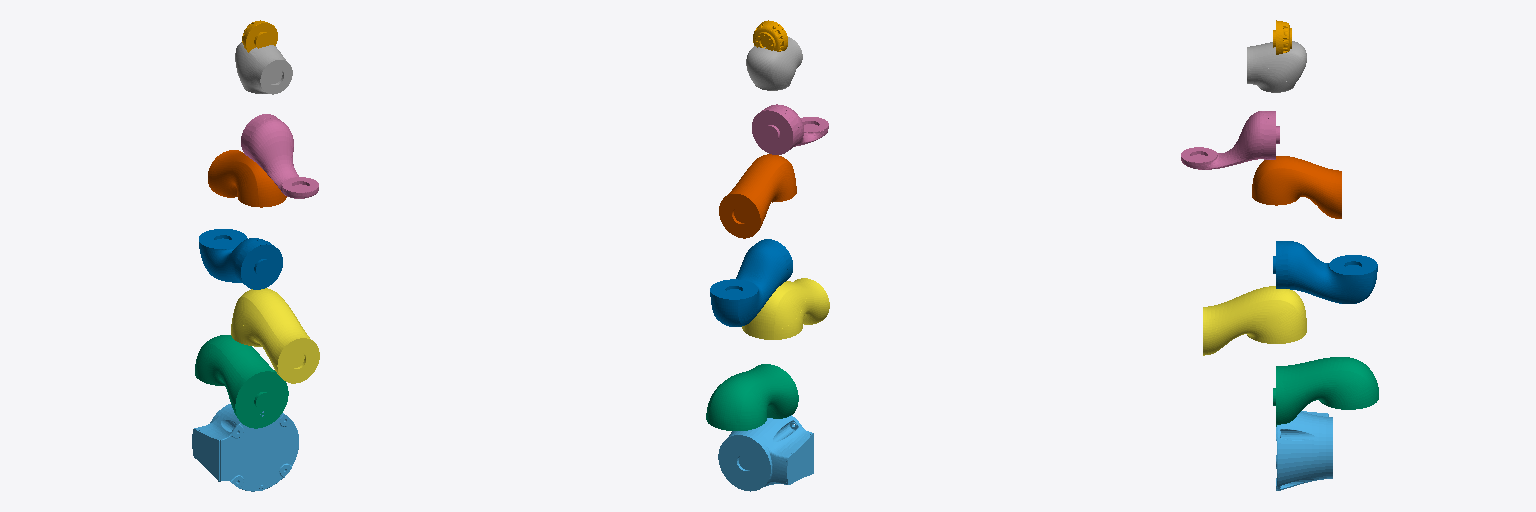
robot.urdf — iiwa14:
<?xml version='1.0' encoding='utf-8'?>
<robot name="iiwa14">
  <material name="Black">
    <color rgba="0.0 0.0 0.0 1.0" />
  </material>
  <material name="Blue">
    <color rgba="0.0 0.0 0.8 1.0" />
  </material>
  <material name="Green">
    <color rgba="0.0 0.8 0.0 1.0" />
  </material>
  <material name="Grey">
    <color rgba="0.4 0.4 0.4 1.0" />
  </material>
  <material name="Silver">
    <color rgba="0.6 0.6 0.6 1.0" />
  </material>
  <material name="Orange">
    <color rgba="1.0 0.423529411765 0.0392156862745 1.0" />
  </material>
  <material name="Brown">
    <color rgba="0.870588235294 0.811764705882 0.764705882353 1.0" />
  </material>
  <material name="Red">
    <color rgba="0.8 0.0 0.0 1.0" />
  </material>
  <material name="White">
    <color rgba="1.0 1.0 1.0 1.0" />
  </material>
  <link name="base" />
  <joint name="iiwa_base_joint" type="fixed">
    <origin rpy="0 0 0" xyz="0 0 0" />
    <parent link="base" />
    <child link="iiwa_link_0" />
  </joint>
  <link name="iiwa_link_0">
    <inertial>
      <origin rpy="0 0 0" xyz="-0.1 0 0.07" />
      <mass value="5" />
      <inertia ixx="0.05" ixy="0" ixz="0" iyy="0.06" iyz="0" izz="0.03" />
    </inertial>
    <visual>
      <origin rpy="0 0 0" xyz="0 0 0" />
      <geometry>
        <mesh filename="meshes/link_0.stl" />
      </geometry>
    </visual>
    <self_collision_checking>
      <origin rpy="0 0 0" xyz="0 0 0" />
      <geometry>
        <capsule length="0.25" radius="0.15" />
      </geometry>
    </self_collision_checking>
  </link>
  <joint name="iiwa_joint_1" type="revolute">
    <parent link="iiwa_link_0" />
    <child link="iiwa_link_1" />
    <origin rpy="0 0 0" xyz="0 0 0.1575" />
    <axis xyz="0 0 1" />
    <limit effort="320" lower="-2.96705972839" upper="2.96705972839" velocity="1.4835298641951802" />
  </joint>
  <link name="iiwa_link_1">
    <inertial>
      <origin rpy="0 0 0" xyz="0 -0.03 0.12" />
      <mass value="5.76" />
      <inertia ixx="0.033" ixy="0" ixz="0" iyy="0.0333" iyz="0" izz="0.0123" />
    </inertial>
    <visual>
      <origin rpy="0 0 0" xyz="0 0 0" />
      <geometry>
        <mesh filename="meshes/link_1.stl" />
      </geometry>
    </visual>
  </link>
  <joint name="iiwa_joint_2" type="revolute">
    <parent link="iiwa_link_1" />
    <child link="iiwa_link_2" />
    <origin rpy="1.570796326794897   0 3.141592653589793" xyz="0 0 0.2025" />
    <axis xyz="0 0 1" />
    <limit effort="320" lower="-2.09439510239" upper="2.09439510239" velocity="1.4835298641951802" />
  </joint>
  <link name="iiwa_link_2">
    <inertial>
      <origin rpy="0 0 0" xyz="0.0003 0.059 0.042" />
      <mass value="6.35" />
      <inertia ixx="0.0305" ixy="0" ixz="0" iyy="0.011" iyz="0" izz="0.0304" />
    </inertial>
    <visual>
      <origin rpy="0 0 0" xyz="0 0 0" />
      <geometry>
        <mesh filename="meshes/link_2_orange.stl" />
      </geometry>
    </visual>
    <visual>
      <origin rpy="0 0 0" xyz="0 0 0" />
      <geometry>
        <mesh filename="meshes/link_2_grey.stl" />
      </geometry>
    </visual>
  </link>
  <joint name="iiwa_joint_3" type="revolute">
    <parent link="iiwa_link_2" />
    <child link="iiwa_link_3" />
    <origin rpy="1.570796326794897 0 3.141592653589793" xyz="0 0.2045 0" />
    <axis xyz="0 0 1" />
    <limit effort="176" lower="-2.96705972839" upper="2.96705972839" velocity="1.7453292519943295" />
  </joint>
  <link name="iiwa_link_3">
    <inertial>
      <origin rpy="0 0 0" xyz="0 0.03 0.13" />
      <mass value="3.5" />
      <inertia ixx="0.025" ixy="0" ixz="0" iyy="0.0238" iyz="0" izz="0.0076" />
    </inertial>
    <visual>
      <origin rpy="0 0 0" xyz="0 0 0" />
      <geometry>
        <mesh filename="meshes/link_3.stl" />
      </geometry>
    </visual>
    <visual>
      <origin rpy="0 0 0" xyz="0 0 0" />
      <geometry>
        <mesh filename="meshes/band.stl" />
      </geometry>
    </visual>
    <visual>
      <origin rpy="0 0 0" xyz="0 0 0" />
      <geometry>
        <mesh filename="meshes/kuka.stl" />
      </geometry>
    </visual>
  </link>
  <joint name="iiwa_joint_4" type="revolute">
    <parent link="iiwa_link_3" />
    <child link="iiwa_link_4" />
    <origin rpy="1.570796326794897 0 0" xyz="0 0 0.2155" />
    <axis xyz="0 0 1" />
    <limit effort="176" lower="-2.09439510239" upper="2.09439510239" velocity="1.3089969389957472" />
  </joint>
  <link name="iiwa_link_4">
    <inertial>
      <origin rpy="0 0 0" xyz="0 0.067 0.034" />
      <mass value="3.5" />
      <inertia ixx="0.017" ixy="0" ixz="0" iyy="0.006" iyz="0" izz="0.0164" />
    </inertial>
    <visual>
      <origin rpy="0 0 0" xyz="0 0 0" />
      <geometry>
        <mesh filename="meshes/link_4_orange.stl" />
      </geometry>
    </visual>
    <visual>
      <origin rpy="0 0 0" xyz="0 0 0" />
      <geometry>
        <mesh filename="meshes/link_4_grey.stl" />
      </geometry>
    </visual>
  </link>
  <joint name="iiwa_joint_5" type="revolute">
    <parent link="iiwa_link_4" />
    <child link="iiwa_link_5" />
    <origin rpy="-1.570796326794897 3.141592653589793 0" xyz="0 0.1845 0" />
    <axis xyz="0 0 1" />
    <limit effort="110" lower="-2.96705972839" upper="2.96705972839" velocity="2.2689280275926285" />
  </joint>
  <link name="iiwa_link_5">
    <inertial>
      <origin rpy="0 0 0" xyz="0.0001 0.021 0.076" />
      <mass value="3.5" />
      <inertia ixx="0.01" ixy="0" ixz="0" iyy="0.0087" iyz="0" izz="0.00449" />
    </inertial>
    <visual>
      <origin rpy="0 0 0" xyz="0 0 0" />
      <geometry>
        <mesh filename="meshes/link_5.stl" />
      </geometry>
    </visual>
    <visual>
      <origin rpy="0 0 0" xyz="0 0 0" />
      <geometry>
        <mesh filename="meshes/band.stl" />
      </geometry>
    </visual>
    <visual>
      <origin rpy="0 0 0" xyz="0 0 0" />
      <geometry>
        <mesh filename="meshes/kuka.stl" />
      </geometry>
    </visual>
  </link>
  <joint name="iiwa_joint_6" type="revolute">
    <parent link="iiwa_link_5" />
    <child link="iiwa_link_6" />
    <origin rpy="1.570796326794897 0 0" xyz="0 0 0.2155" />
    <axis xyz="0 0 1" />
    <limit effort="40" lower="-2.09439510239" upper="2.09439510239" velocity="2.356194490192345" />
  </joint>
  <link name="iiwa_link_6">
    <inertial>
      <origin rpy="0 0 0" xyz="0 0.0006 0.0004" />
      <mass value="1.8" />
      <inertia ixx="0.0049" ixy="0" ixz="0" iyy="0.0047" iyz="0" izz="0.0036" />
    </inertial>
    <visual>
      <origin rpy="0 0 0" xyz="0 0 0" />
      <geometry>
        <mesh filename="meshes/link_6_orange.stl" />
      </geometry>
    </visual>
    <visual>
      <origin rpy="0 0 0" xyz="0 0 0" />
      <geometry>
        <mesh filename="meshes/link_6_grey.stl" />
      </geometry>
    </visual>
  </link>
  <joint name="iiwa_joint_7" type="revolute">
    <parent link="iiwa_link_6" />
    <child link="iiwa_link_7" />
    <origin rpy="-1.570796326794897 3.141592653589793 0" xyz="0 0.081 0" />
    <axis xyz="0 0 1" />
    <limit effort="40" lower="-3.05432619099" upper="3.05432619099" velocity="2.356194490192345" />
  </joint>
  <link name="iiwa_link_7">
    <inertial>
      <origin rpy="0 0 0" xyz="0 0 0.02" />
      <mass value="1.2" />
      <inertia ixx="0.001" ixy="0" ixz="0" iyy="0.001" iyz="0" izz="0.001" />
    </inertial>
    <visual>
      <origin rpy="0 0 0" xyz="0 0 0" />
      <geometry>
        <mesh filename="meshes/link_7.stl" />
      </geometry>
    </visual>
  </link>
  <joint name="iiwa_joint_ee" type="fixed">
    <parent link="iiwa_link_7" />
    <child link="iiwa_link_ee_kuka" />
    <origin rpy="3.141592653589793 3.141592653589793 3.141592653589793" xyz="0 0 0.045" />
    <axis xyz="0 0 1" />
  </joint>
  <link name="iiwa_link_ee_kuka">
    </link>
  <joint name="tool0_joint" type="fixed">
    <parent link="iiwa_link_7" />
    <child link="iiwa_link_ee" />
    <origin rpy="0 -1.570796326794897 0" xyz="0 0 0.045" />
  </joint>
  <link name="iiwa_link_ee">
    </link>
</robot>

--- Render facts (derived) ---
Views: 3 orthographic renders of the robot side by side, from view 1: azimuth 30°, elevation 25°; view 2: azimuth 150°, elevation 25°; view 3: azimuth 270°, elevation 25°.
Model iiwa14 with 11 links and 10 joints (7 revolute, 3 fixed), rooted at base, posed every joint at zero.
Links seen in each view (by area): view 1: iiwa_link_0, iiwa_link_1, iiwa_link_2, iiwa_link_3, iiwa_link_5, iiwa_link_4, iiwa_link_6, iiwa_link_7; view 2: iiwa_link_0, iiwa_link_1, iiwa_link_3, iiwa_link_4, iiwa_link_2, iiwa_link_5, iiwa_link_6, iiwa_link_7; view 3: iiwa_link_1, iiwa_link_2, iiwa_link_3, iiwa_link_4, iiwa_link_0, iiwa_link_5, iiwa_link_6, iiwa_link_7.
Boxes of the visible links, left/top/right/bottom form: iiwa_link_0: left=192, top=404, right=298, bottom=491; iiwa_link_1: left=195, top=335, right=288, bottom=428; iiwa_link_2: left=231, top=288, right=319, bottom=383; iiwa_link_3: left=199, top=229, right=282, bottom=289; iiwa_link_5: left=241, top=114, right=318, bottom=198; iiwa_link_4: left=208, top=150, right=286, bottom=207; iiwa_link_6: left=235, top=42, right=292, bottom=94; iiwa_link_7: left=242, top=20, right=277, bottom=52; iiwa_link_0: left=718, top=415, right=813, bottom=491; iiwa_link_1: left=706, top=364, right=798, bottom=430; iiwa_link_3: left=710, top=239, right=792, bottom=326; iiwa_link_4: left=719, top=154, right=796, bottom=238; iiwa_link_2: left=742, top=278, right=829, bottom=339; iiwa_link_5: left=752, top=104, right=828, bottom=154; iiwa_link_6: left=746, top=37, right=802, bottom=90; iiwa_link_7: left=753, top=20, right=787, bottom=51; iiwa_link_1: left=1273, top=357, right=1378, bottom=426; iiwa_link_2: left=1203, top=286, right=1306, bottom=355; iiwa_link_3: left=1273, top=241, right=1377, bottom=303; iiwa_link_4: left=1252, top=156, right=1341, bottom=218; iiwa_link_0: left=1276, top=411, right=1332, bottom=490; iiwa_link_5: left=1181, top=111, right=1279, bottom=169; iiwa_link_6: left=1247, top=41, right=1306, bottom=92; iiwa_link_7: left=1273, top=20, right=1291, bottom=54.
Bounding box of the posed robot: 0.2572 × 0.555 × 1.43 m (x, y, z).
Meshes: 13 distinct files referenced, 15 mesh visuals loaded (13 binary STL).
